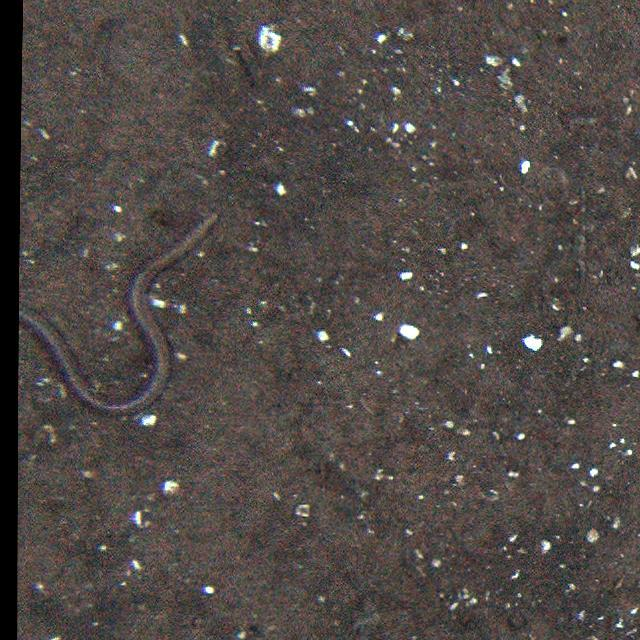eel: (29, 204, 220, 420)
